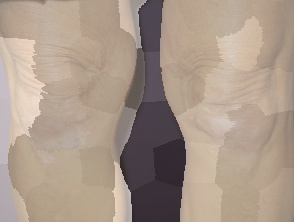vitiligo: (5, 16, 107, 182), (192, 41, 278, 181)
